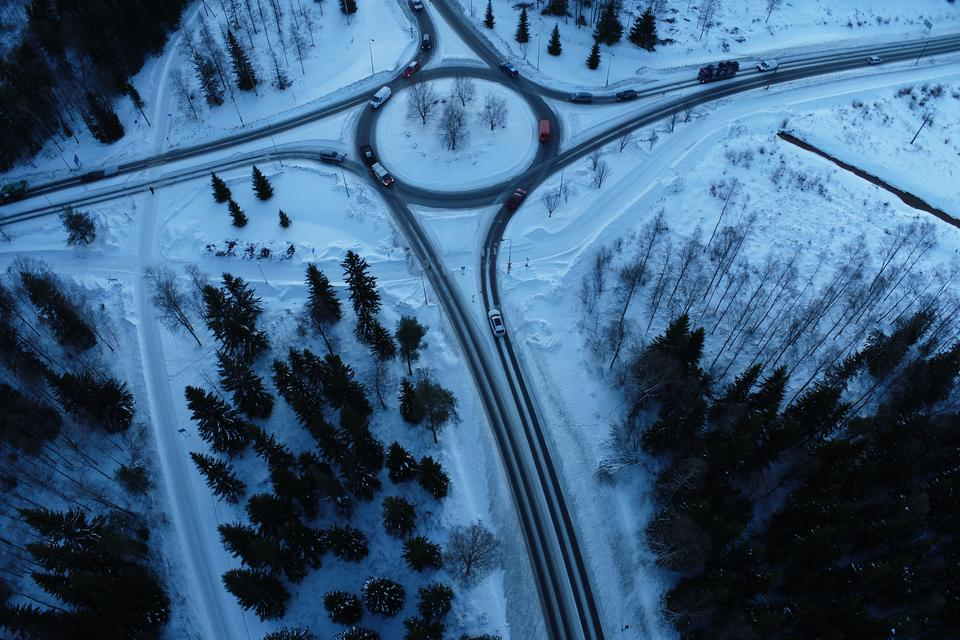intersection: (406, 240, 515, 283), (127, 133, 175, 211)
roundabout: (327, 38, 590, 229)
